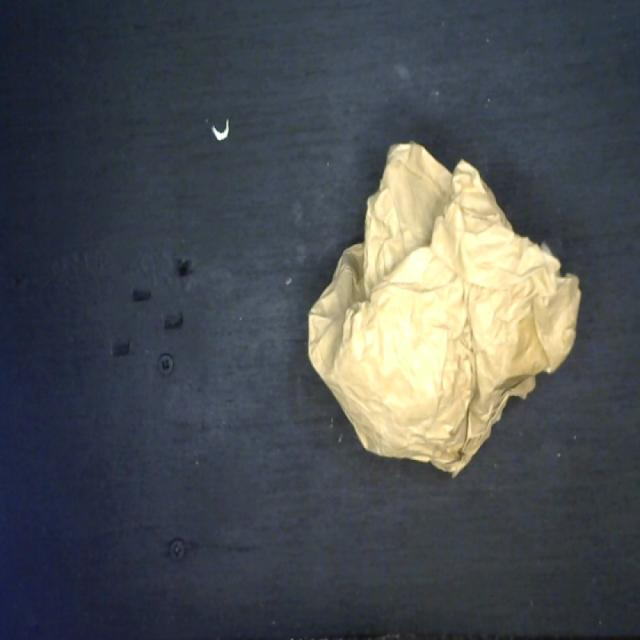biodegradable: (307, 132, 587, 479)
